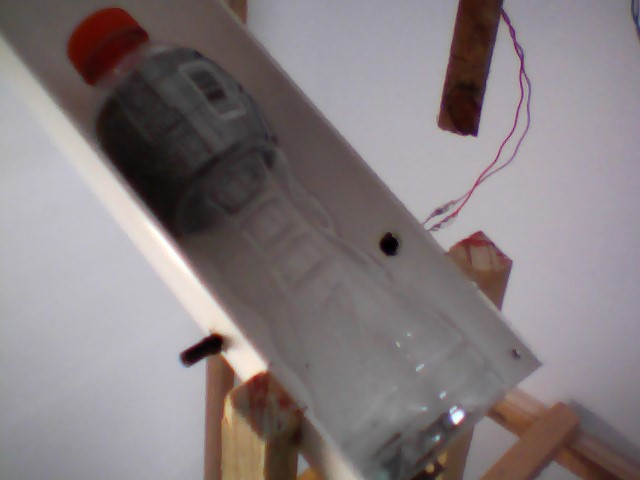plastico: (64, 3, 513, 480)
